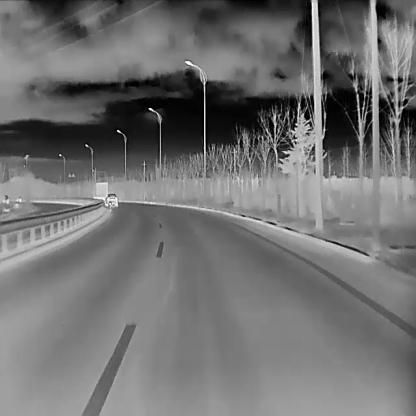car: (103, 193, 118, 207)
truck: (92, 181, 108, 199)
